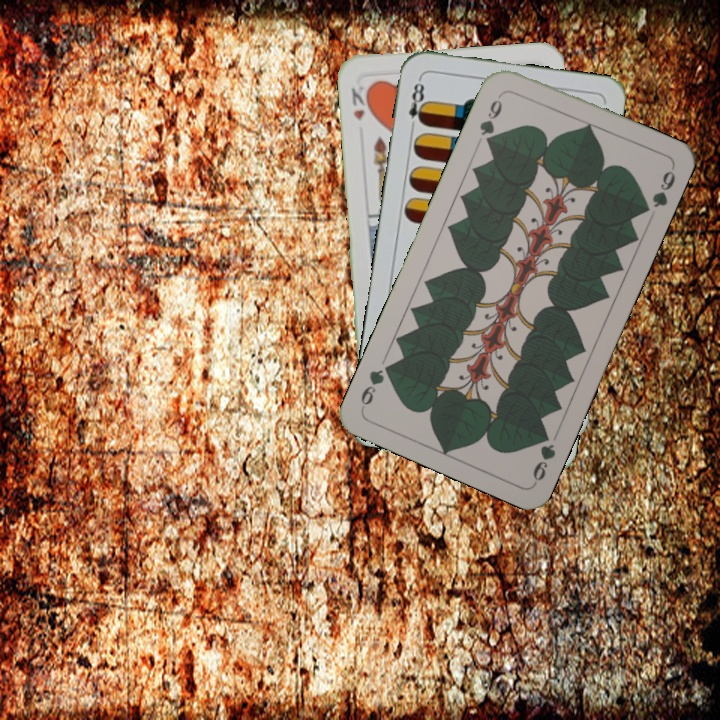E8: (404, 74, 429, 133)
G9: (475, 89, 506, 148), (528, 426, 558, 486)
HK: (347, 82, 373, 123)
